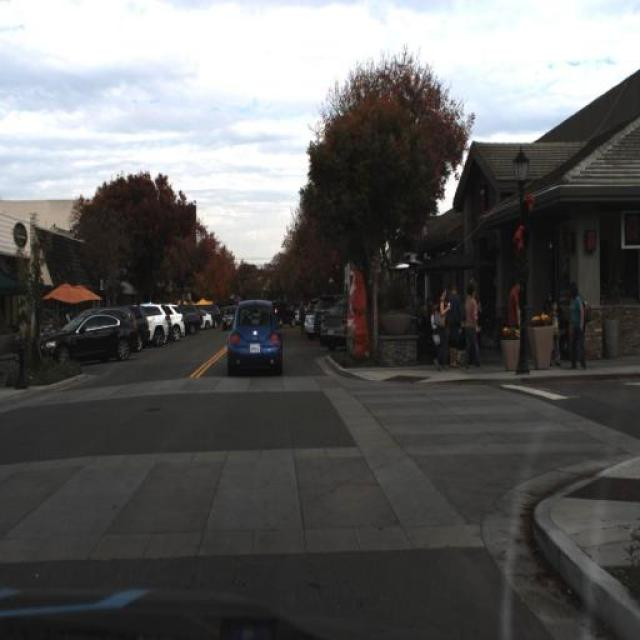car: (221, 294, 287, 384), (37, 311, 139, 368), (320, 294, 350, 358), (140, 300, 166, 350), (323, 297, 349, 345), (313, 290, 329, 342), (132, 300, 144, 348), (274, 298, 292, 328), (168, 301, 182, 337), (185, 300, 199, 335), (222, 303, 236, 335), (304, 303, 314, 339), (212, 305, 222, 331), (201, 309, 211, 333)
trafficLight: (564, 281, 590, 370), (466, 284, 482, 362), (546, 296, 562, 368), (425, 306, 440, 364), (438, 283, 448, 369), (510, 278, 520, 358), (448, 286, 458, 360), (297, 300, 305, 334)
